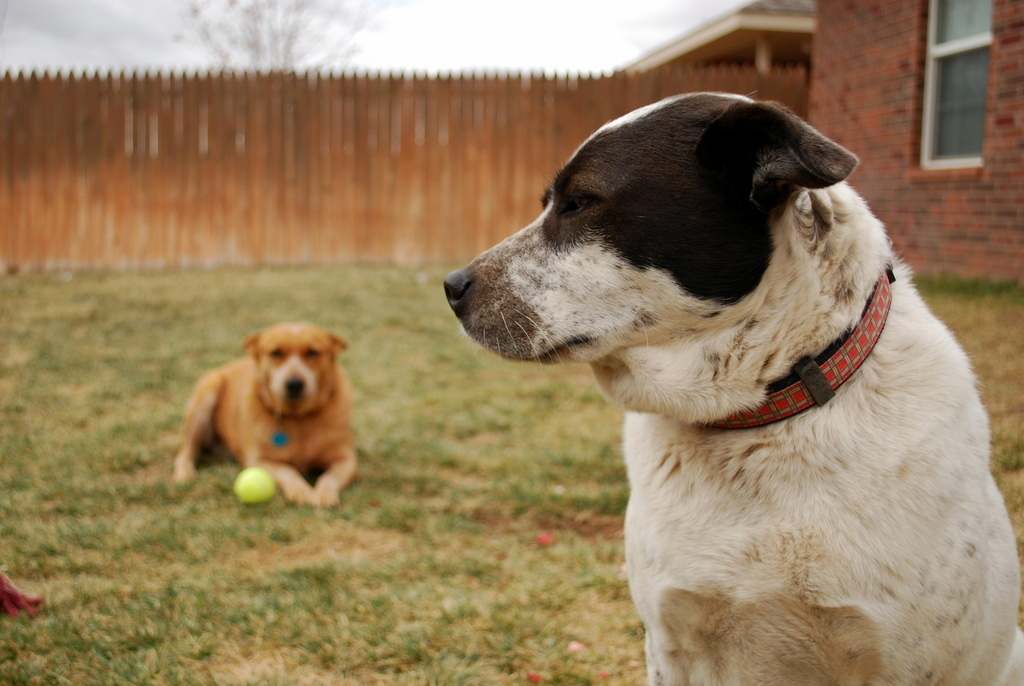Ball: (235, 465, 275, 502)
